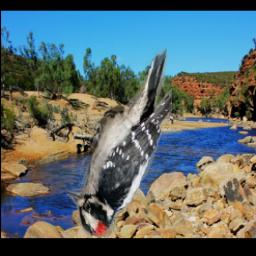Woodpecker: (66, 47, 173, 236)
